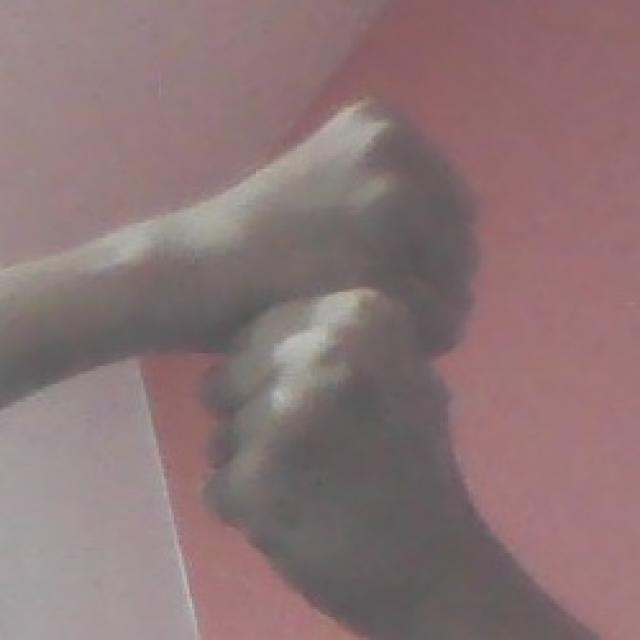Alphabet-g: (181, 84, 506, 575)
